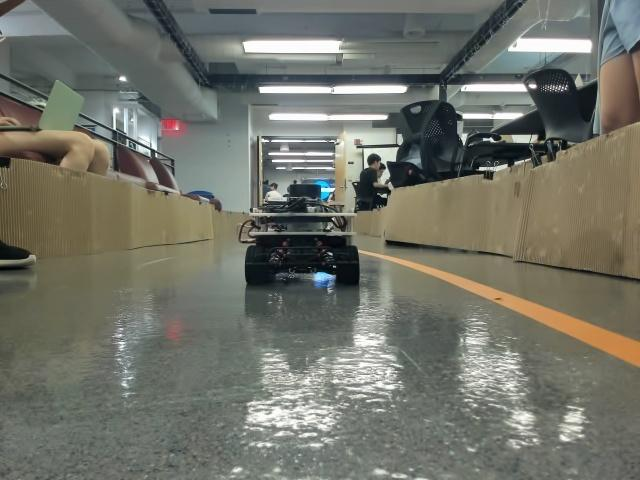Car: (243, 183, 360, 286)
